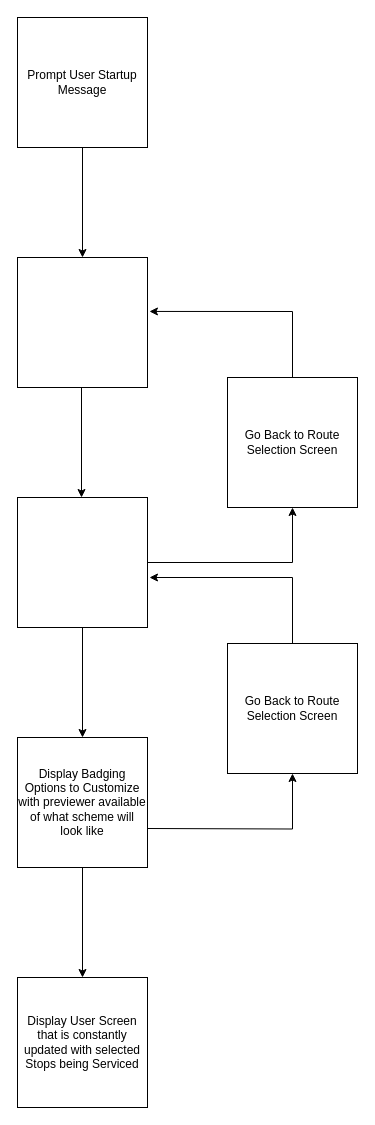
Some shapes in this 375 by 1125 pixel diagram are drawn without their labels. The shapes that lost their labels are listed below. From the top down, each one's centre as x and y in pixels, then its label:
At pixel 82 322: "Display All Routes to User to Select".
At pixel 82 562: "Display All Stops under each Route to User to Include".
